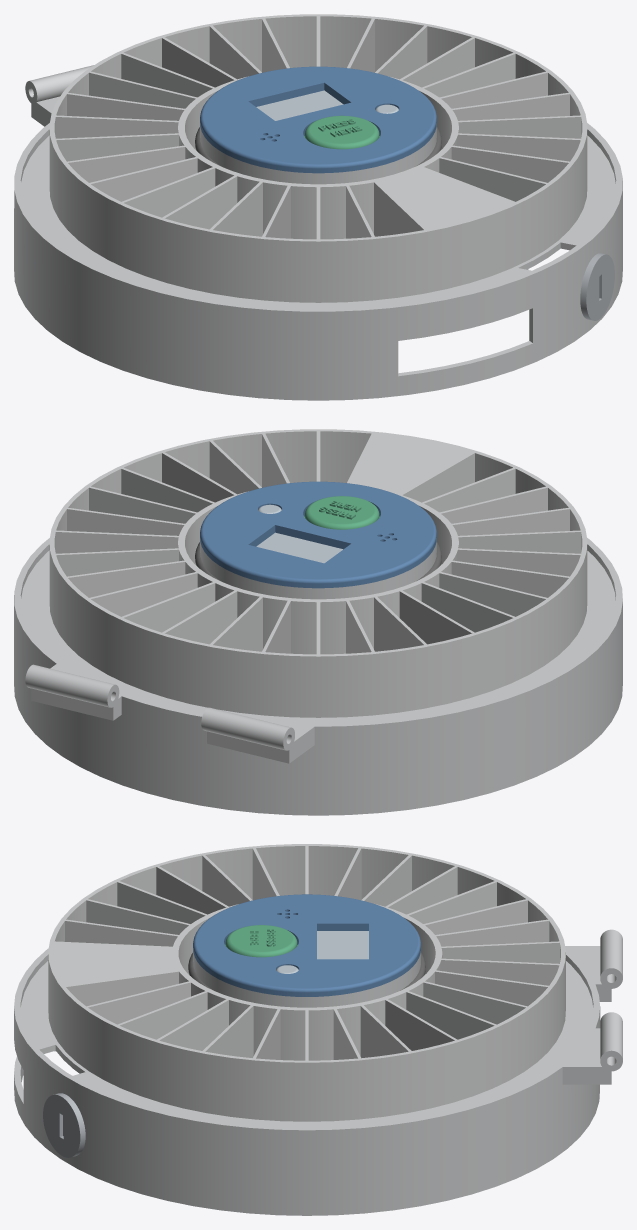
File: step_03.glb
The picture shows the model from 3 angles, top to bottom: view 1: azimuth 30°, elevation 25°; view 2: azimuth 150°, elevation 25°; view 3: azimuth 270°, elevation 25°; orthographic projection. The views are drawn at different scales.
Parts seen in each view (by area): view 1: part__carousel, part__chassis, part__pod cap, part__pod column, part__PRESS HERE button, part__pharmacy lock, part__display window; view 2: part__carousel, part__chassis, part__pod cap, part__pod column, part__PRESS HERE button, part__display window; view 3: part__carousel, part__chassis, part__pod cap, part__pod column, part__pharmacy lock, part__PRESS HERE button, part__display window.
Boxes of the visible parts, <box> form: part__carousel: <box>49,14,587,302</box>; part__chassis: <box>14,65,622,400</box>; part__pod cap: <box>200,66,436,173</box>; part__pod column: <box>200,123,436,184</box>; part__PRESS HERE button: <box>304,115,379,149</box>; part__pharmacy lock: <box>580,253,614,320</box>; part__display window: <box>256,90,343,120</box>; part__carousel: <box>49,429,587,717</box>; part__chassis: <box>14,538,622,815</box>; part__pod cap: <box>200,481,436,588</box>; part__pod column: <box>200,538,436,599</box>; part__PRESS HERE button: <box>304,496,379,529</box>; part__display window: <box>256,532,342,563</box>; part__carousel: <box>48,844,565,1121</box>; part__chassis: <box>14,929,622,1215</box>; part__pod cap: <box>193,894,420,996</box>; part__pod column: <box>193,948,420,1007</box>; part__pharmacy lock: <box>43,1093,85,1157</box>; part__PRESS HERE button: <box>225,925,297,957</box>; part__display window: <box>317,931,368,959</box>.
Bounding box in the file's own units: 180 × 53.6 × 187.
